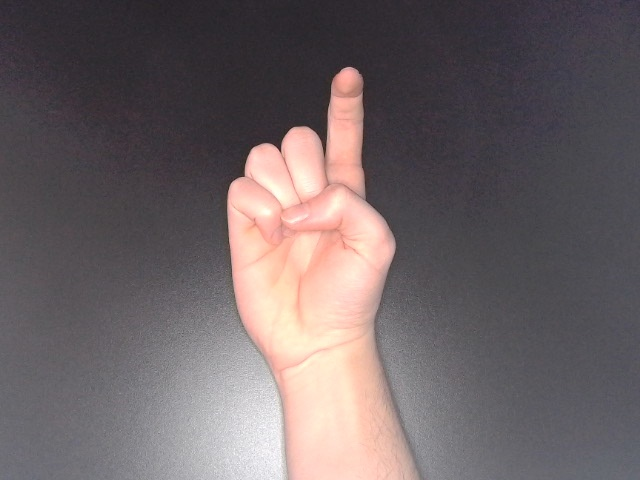x: (221, 63, 402, 377)
